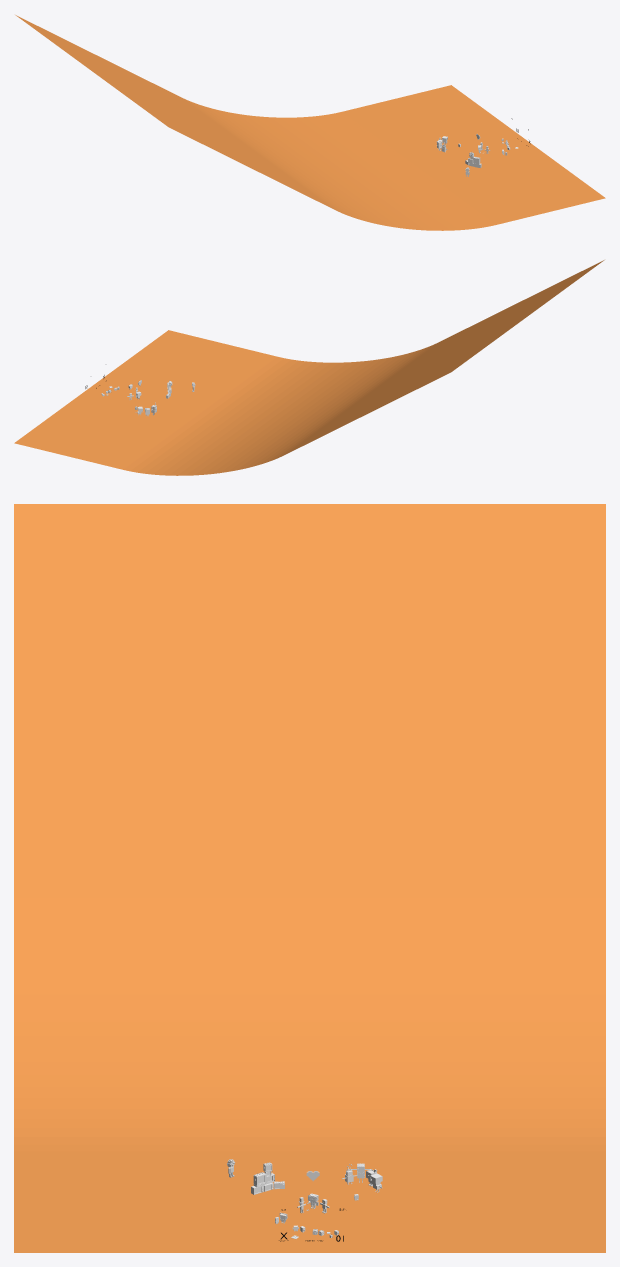
File: main.gltf
3 views of the same model, one above another, from view 1: azimuth 30°, elevation 25°; view 2: azimuth 150°, elevation 25°; view 3: azimuth 270°, elevation 25° (orthographic). The views are drawn at different scales.
Parts seen in each view (by area): view 1: backdrop; view 2: backdrop; view 3: backdrop.
Part boxes in pixels (x1,y1,x2,y2): backdrop: (15,15,605,230); backdrop: (14,260,604,475); backdrop: (14,504,605,1252).
Size of the model in its own units: 25.03 by 9.72 by 15.32.
